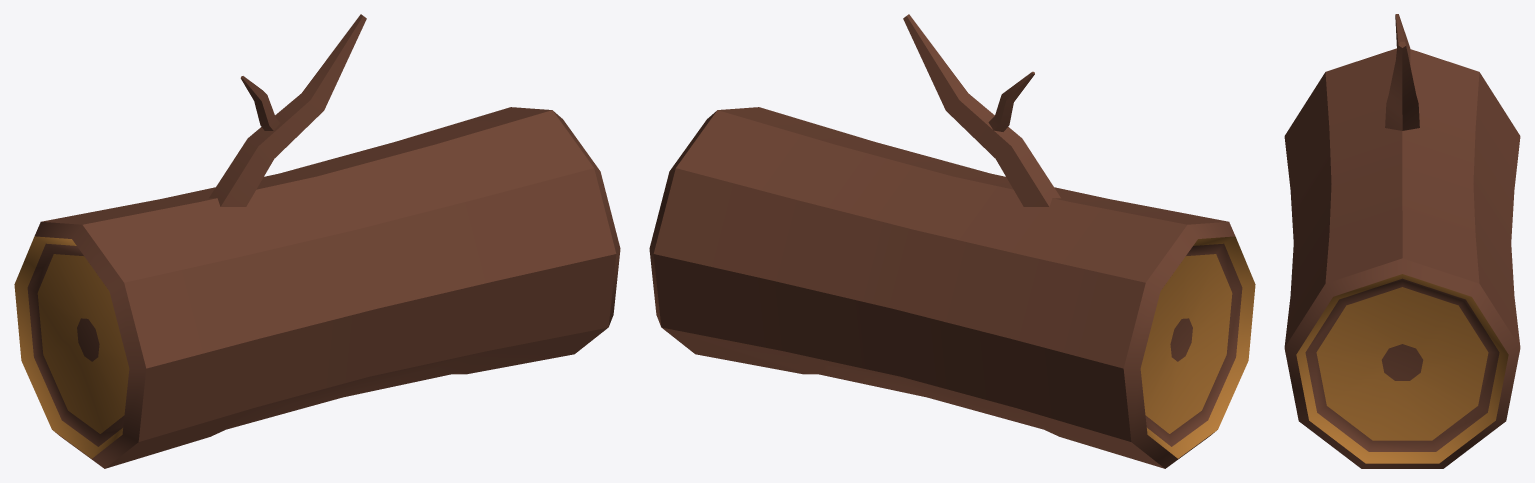
Rendered from log.fbx.
3 views of the same model, side by side, from view 1: azimuth 30°, elevation 25°; view 2: azimuth 150°, elevation 25°; view 3: azimuth 270°, elevation 25° (orthographic). The views are drawn at different scales.
Parts seen in each view (by area): view 1: log1; view 2: log1; view 3: log1.
Part boxes in pixels (x1=…): log1: x1=14, y1=14, x2=620, y2=468; log1: x1=649, y1=14, x2=1255, y2=468; log1: x1=1284, y1=14, x2=1520, y2=468.
Bounding box in the file's own units: 2.32 × 1.67 × 1.05.
